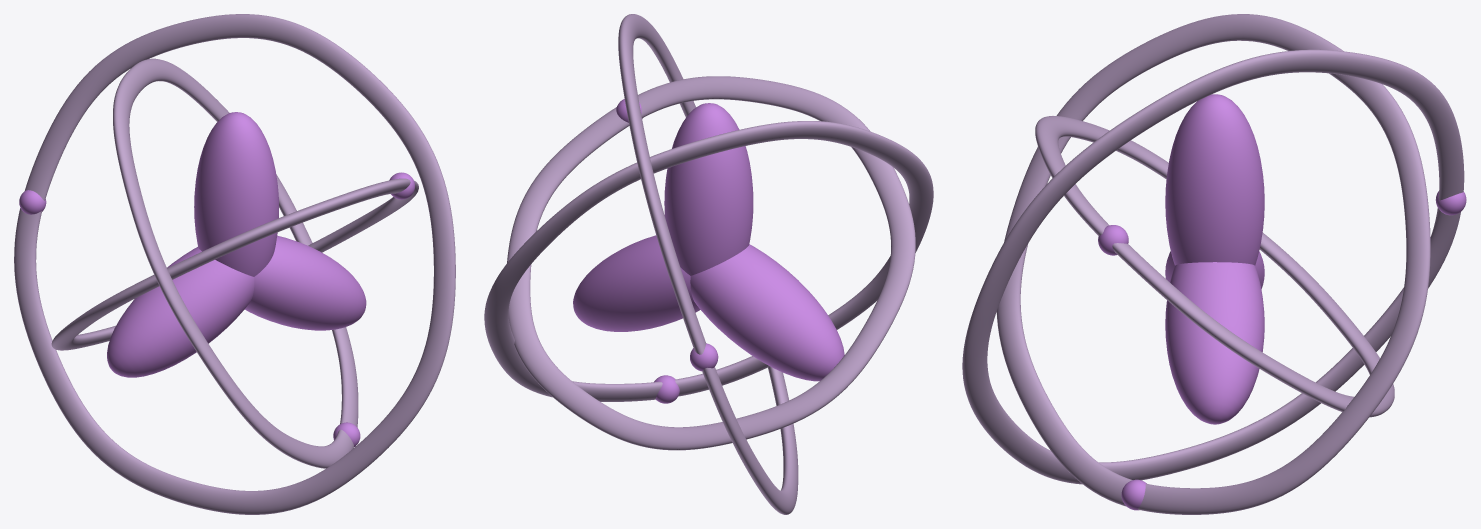
3 views of the same model, side by side, from view 1: azimuth 30°, elevation 25°; view 2: azimuth 150°, elevation 25°; view 3: azimuth 270°, elevation 25° (orthographic). The views are drawn at different scales.
Bounding box in the file's own units: 0.9524 × 1.13 × 1.06.
